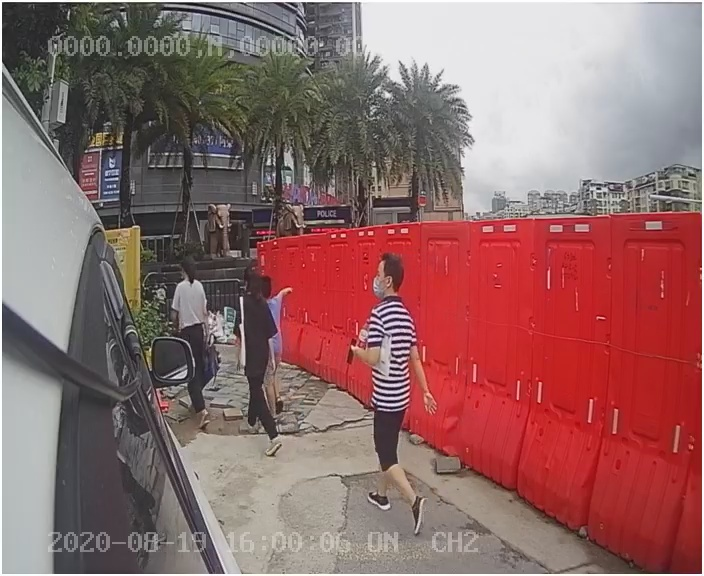person: (342, 249, 460, 536), (223, 259, 311, 461)
